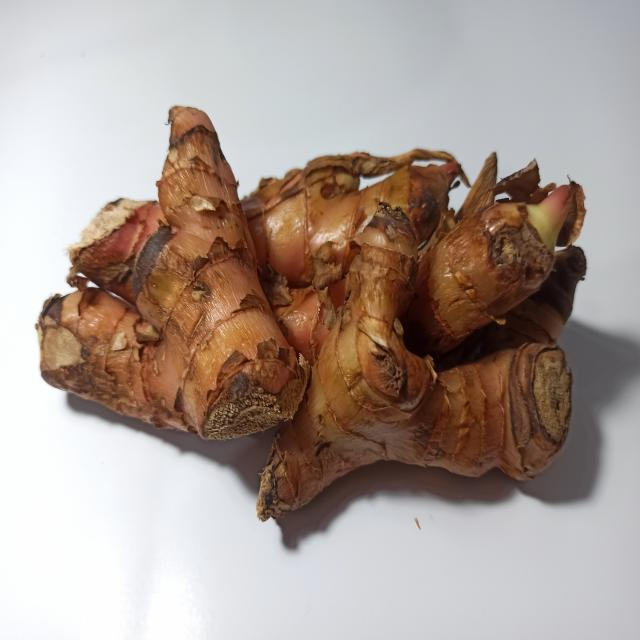ginger: (57, 90, 564, 482)
